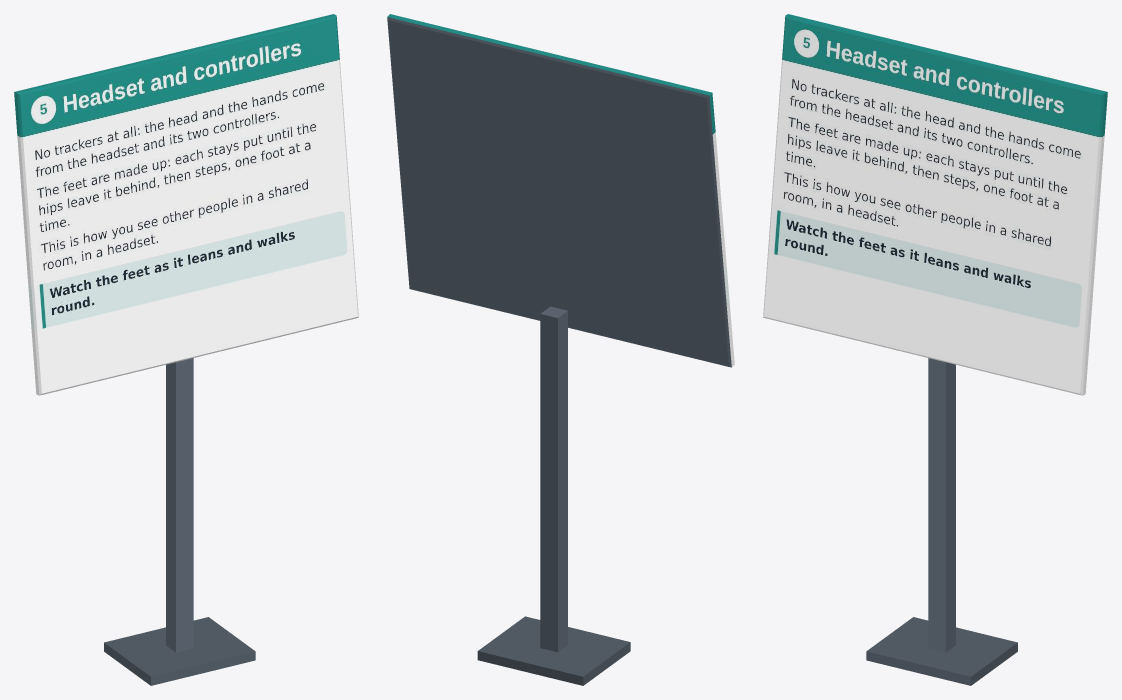
The model's file is 05-headset-and-controllers.glb.
The picture shows the model from 3 angles, left to right: view 1: azimuth 30°, elevation 25°; view 2: azimuth 150°, elevation 25°; view 3: azimuth 330°, elevation 25°; orthographic projection.
Parts seen in each view (by area): view 1: board; view 2: board; view 3: board.
Boxes of the visible parts, <box> form: board: <box>14,14,358,685</box>; board: <box>387,14,734,685</box>; board: <box>763,14,1107,685</box>.
Size of the model in its own units: 1.1 by 1.97 by 0.28.
1 material, 1 textured.
